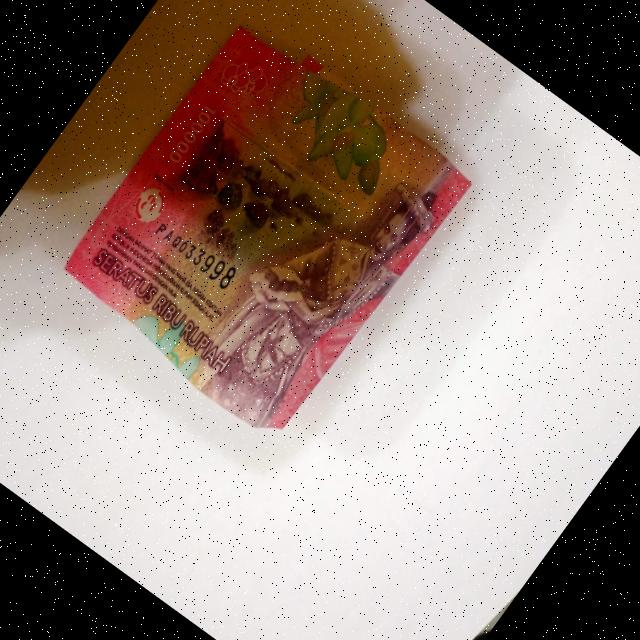100K: (41, 4, 481, 453)
